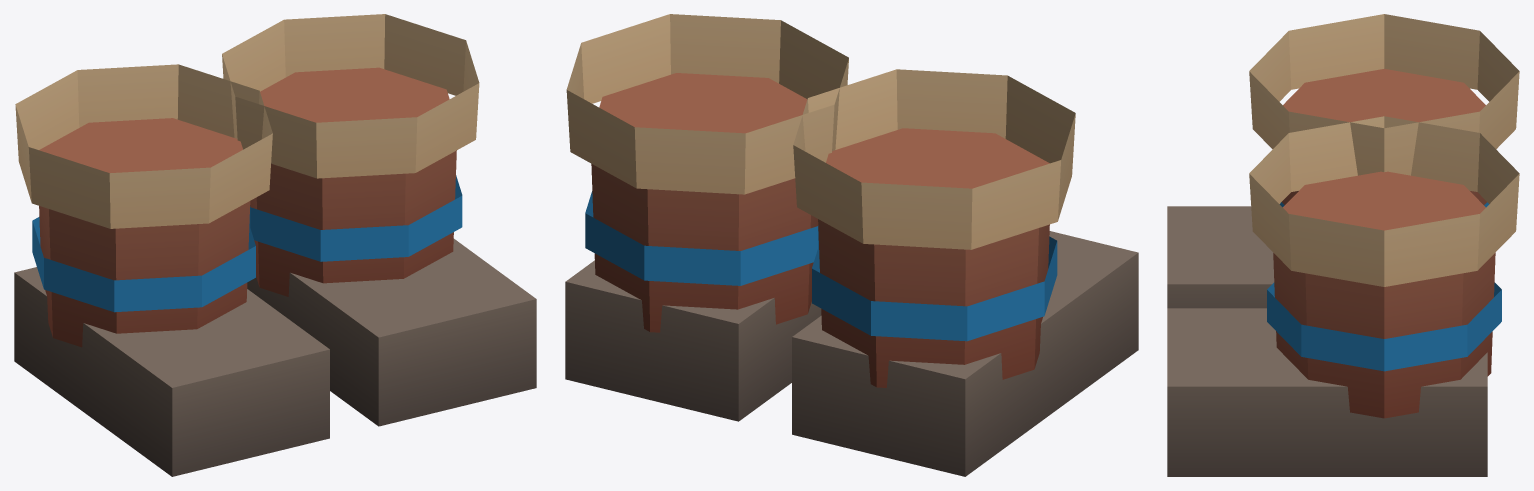
The model's file is hunter_boots_t2.glb.
3 renders of one model, left to right at view 1: azimuth 30°, elevation 25°; view 2: azimuth 150°, elevation 25°; view 3: azimuth 270°, elevation 25°, orthographic. The views are drawn at different scales.
Parts seen in each view (by area): view 1: hunter_boots_t2__lowerleg_r, hunter_boots_t2__lowerleg_l, hunter_boots_t2__foot_r, hunter_boots_t2__foot_l; view 2: hunter_boots_t2__lowerleg_r, hunter_boots_t2__lowerleg_l, hunter_boots_t2__foot_r, hunter_boots_t2__foot_l; view 3: hunter_boots_t2__lowerleg_l, hunter_boots_t2__foot_l, hunter_boots_t2__lowerleg_r, hunter_boots_t2__foot_r.
Boxes of the visible parts, x1,y1,x2,y2 form: hunter_boots_t2__lowerleg_r: (15,64,272,347); hunter_boots_t2__lowerleg_l: (222,14,479,296); hunter_boots_t2__foot_r: (14,267,329,476); hunter_boots_t2__foot_l: (247,238,536,426); hunter_boots_t2__lowerleg_r: (793,69,1075,387); hunter_boots_t2__lowerleg_l: (566,14,848,332); hunter_boots_t2__foot_r: (792,231,1138,476); hunter_boots_t2__foot_l: (565,260,821,421); hunter_boots_t2__lowerleg_l: (1249,116,1519,418); hunter_boots_t2__foot_l: (1167,308,1487,476); hunter_boots_t2__lowerleg_r: (1249,14,1519,207); hunter_boots_t2__foot_r: (1167,206,1274,308).
Size of the model in its own units: 0.72 by 0.41 by 0.495.
Materials: 1 (1 with a texture image).
